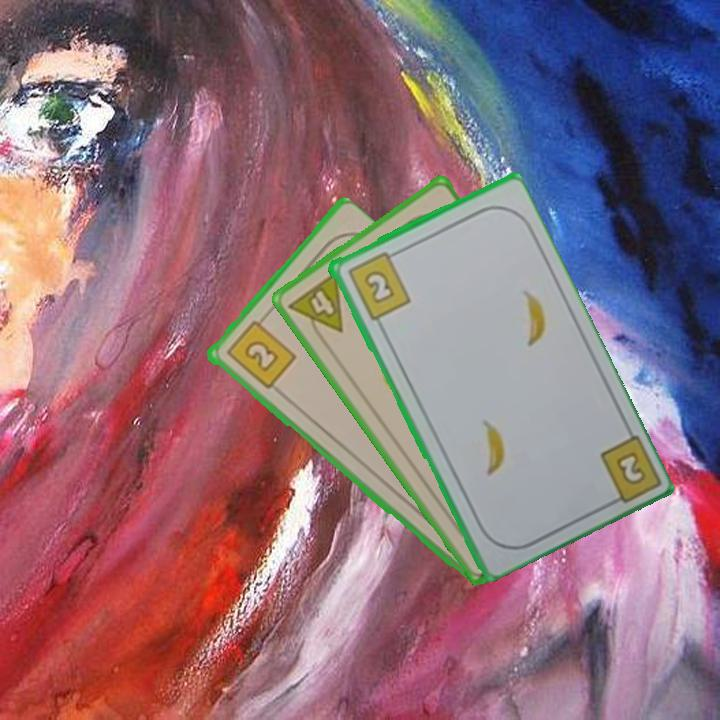2b: (222, 311, 298, 392), (343, 247, 413, 323), (611, 447, 649, 488)
4p: (285, 267, 346, 347)
